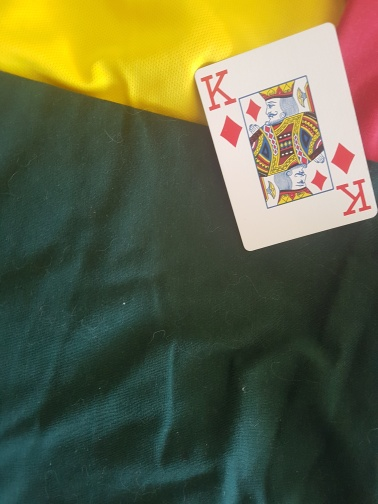king: (195, 21, 373, 253)
